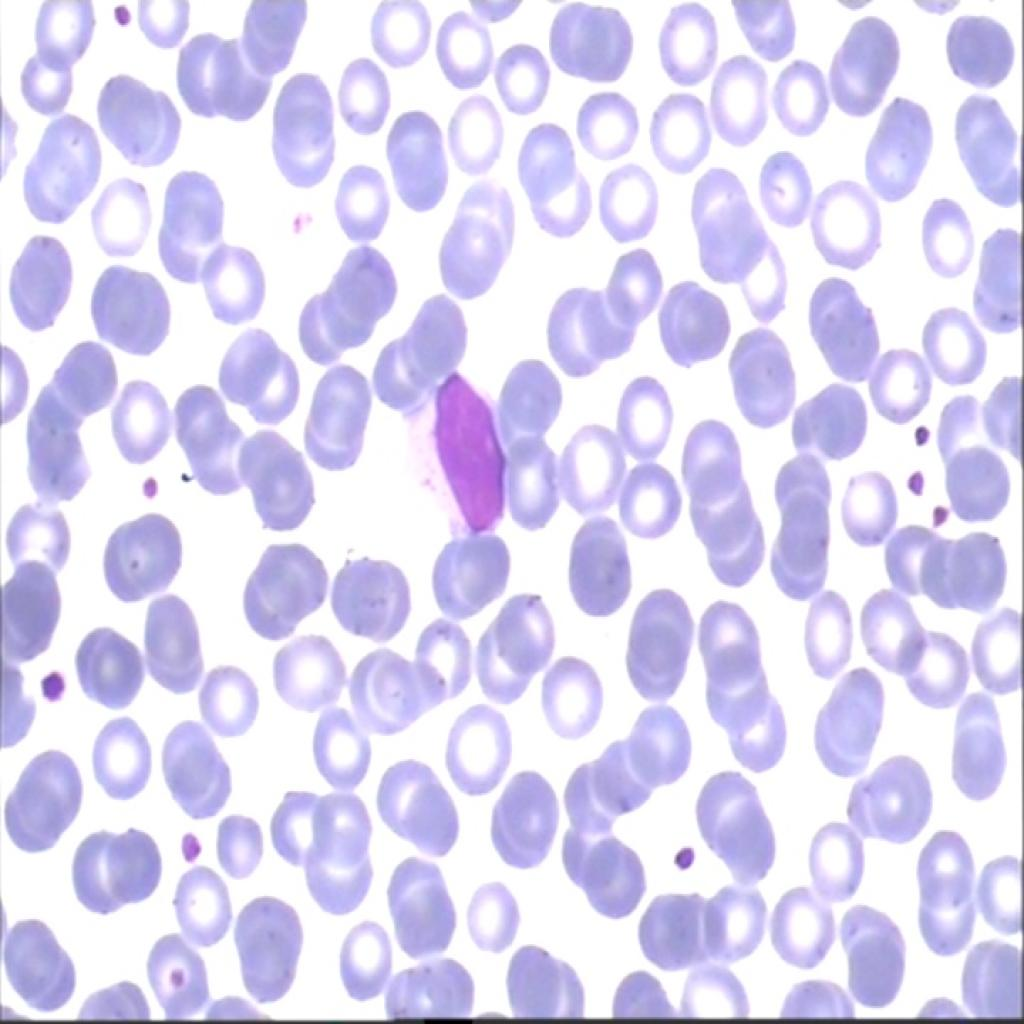Monosit: (385, 345, 532, 549)
Platelet: (96, 0, 146, 44), (663, 837, 705, 887), (36, 660, 68, 722), (178, 812, 206, 876), (131, 460, 163, 508), (902, 409, 934, 455), (924, 489, 953, 531), (898, 457, 924, 499)
